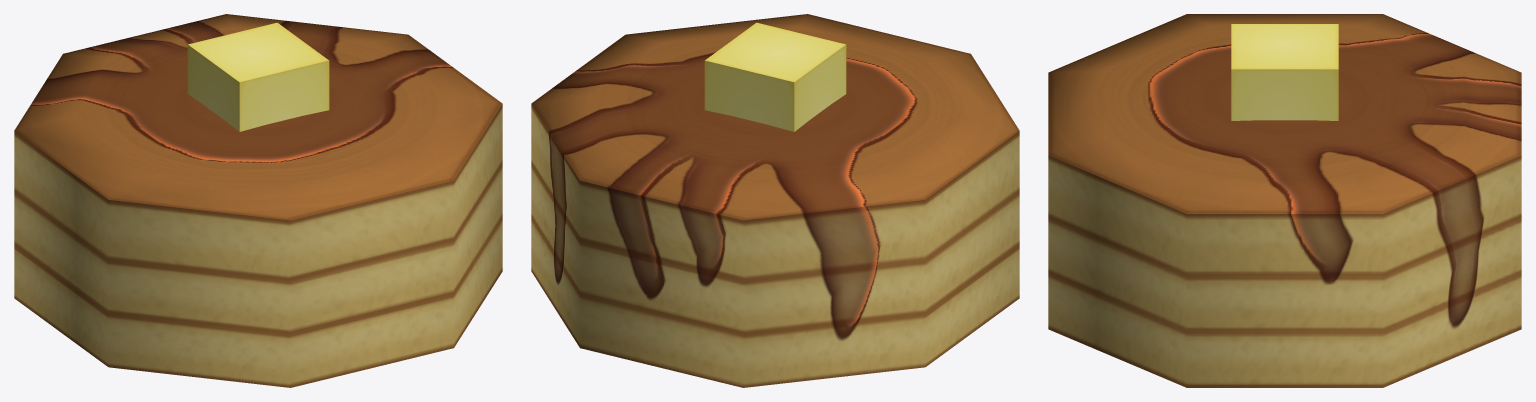
The model's file is HotCake.fbx.
3 views of the same model, side by side, from view 1: azimuth 30°, elevation 25°; view 2: azimuth 150°, elevation 25°; view 3: azimuth 270°, elevation 25° (orthographic). The views are drawn at different scales.
Parts seen in each view (by area): view 1: Empty_Mesh; view 2: Empty_Mesh; view 3: Empty_Mesh.
Boxes of the visible parts, x1,y1,x2,y2 form: Empty_Mesh: [14, 14, 502, 387]; Empty_Mesh: [531, 14, 1019, 387]; Empty_Mesh: [1048, 14, 1521, 387].
Bounding box in the file's own units: 0.3696 × 0.212 × 0.3696.
